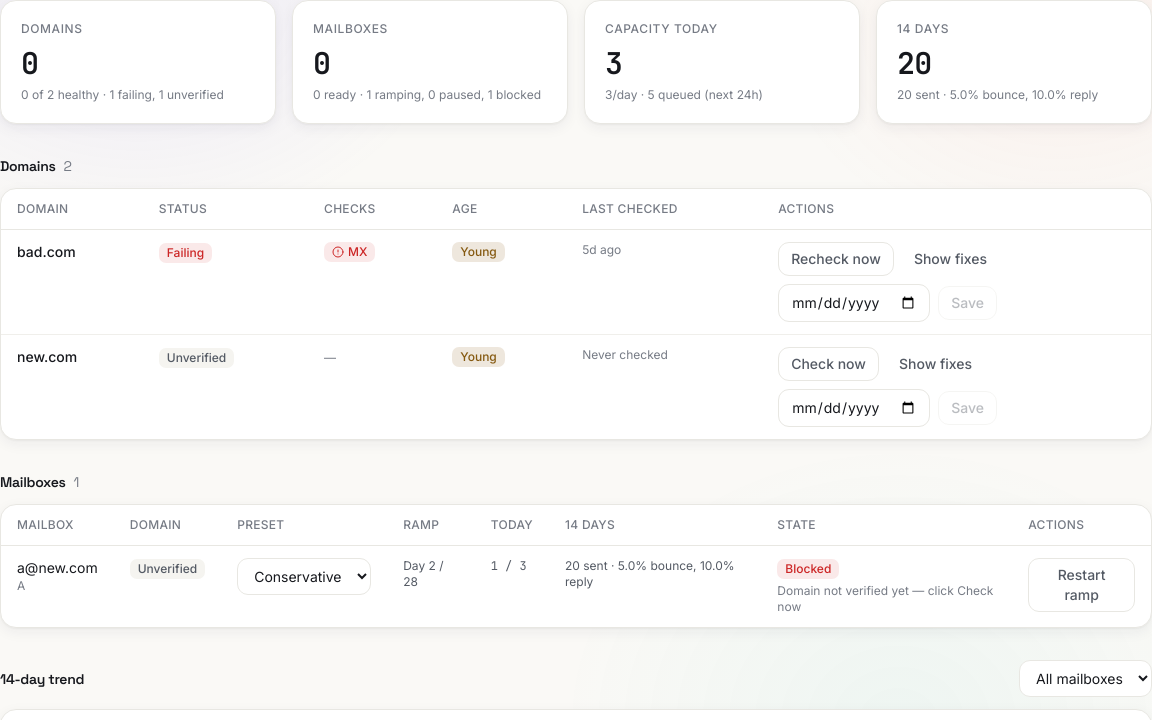
it: DeliverabilityClient › shows summary, a failing domain with its fix, and a blocked mailbox with the reason
Expected: the text "bad.com" is shown, [1,230,143,334]
Click the button with aria-label "show fixes for bad.com": (950, 259) [902,242,999,276]
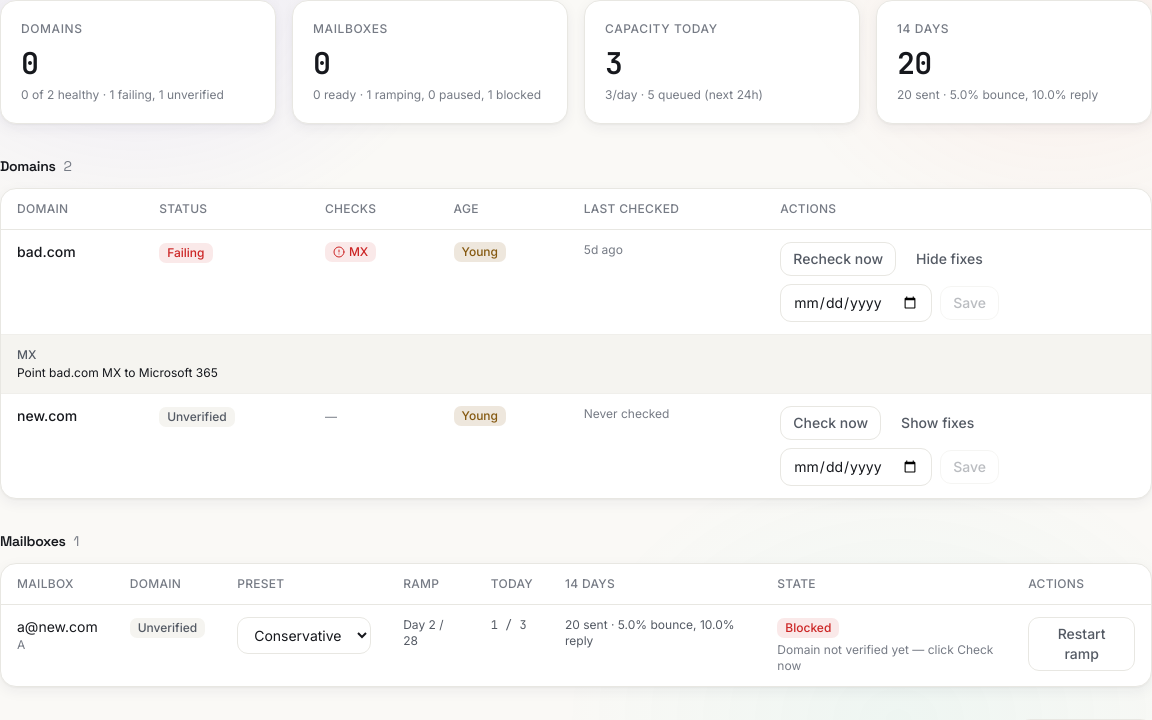
Expected: the text "Domain not verified yet — click Check now" is shown, [777,642,996,674]
Expected: the text "Point bad.com MX to Microsoft 365" is shown, [17,365,218,380]
